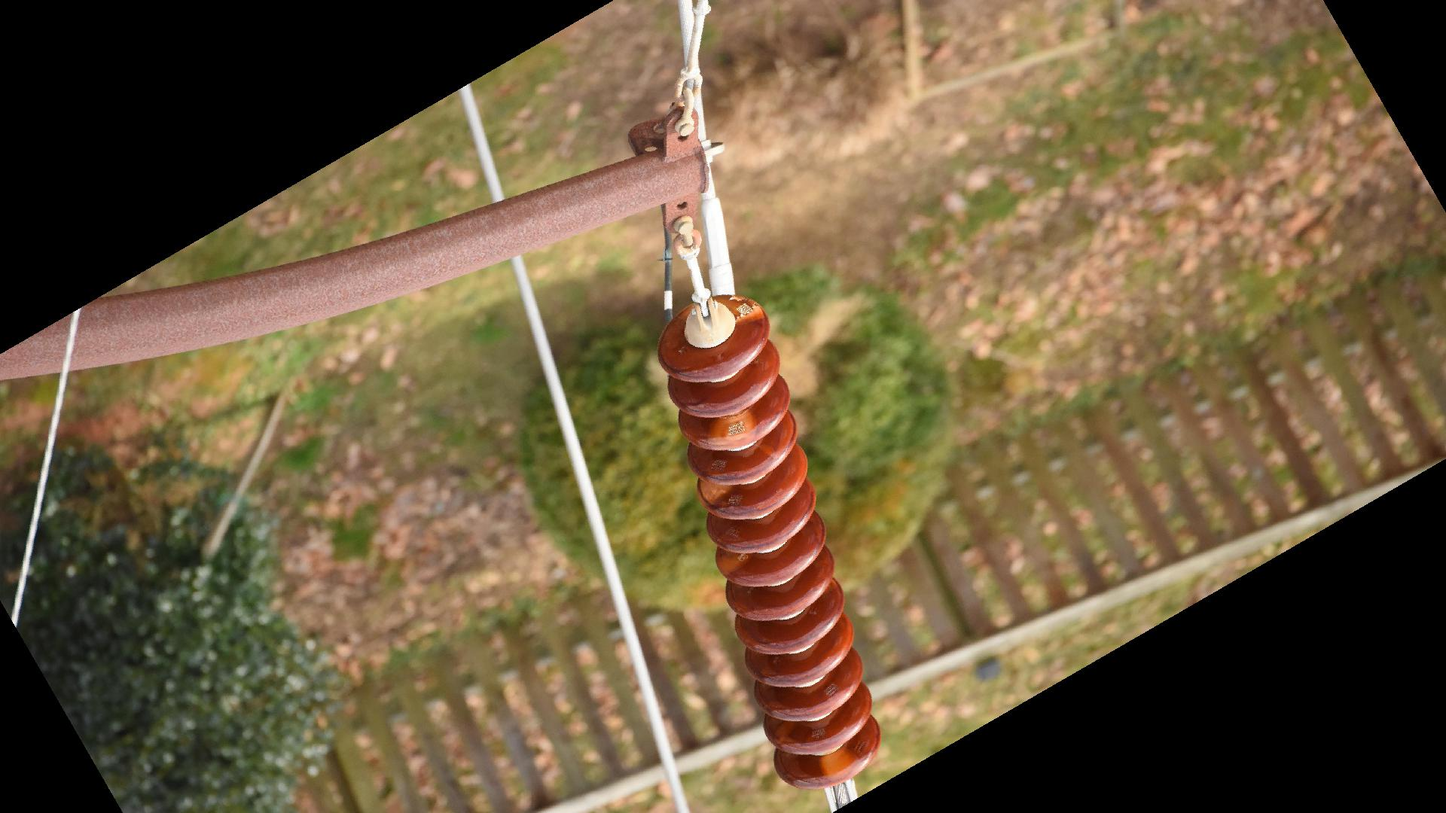insulator: (651, 291, 886, 794)
insulator_flashover: (704, 404, 759, 452), (819, 744, 863, 787), (709, 292, 768, 324), (694, 474, 734, 507)
